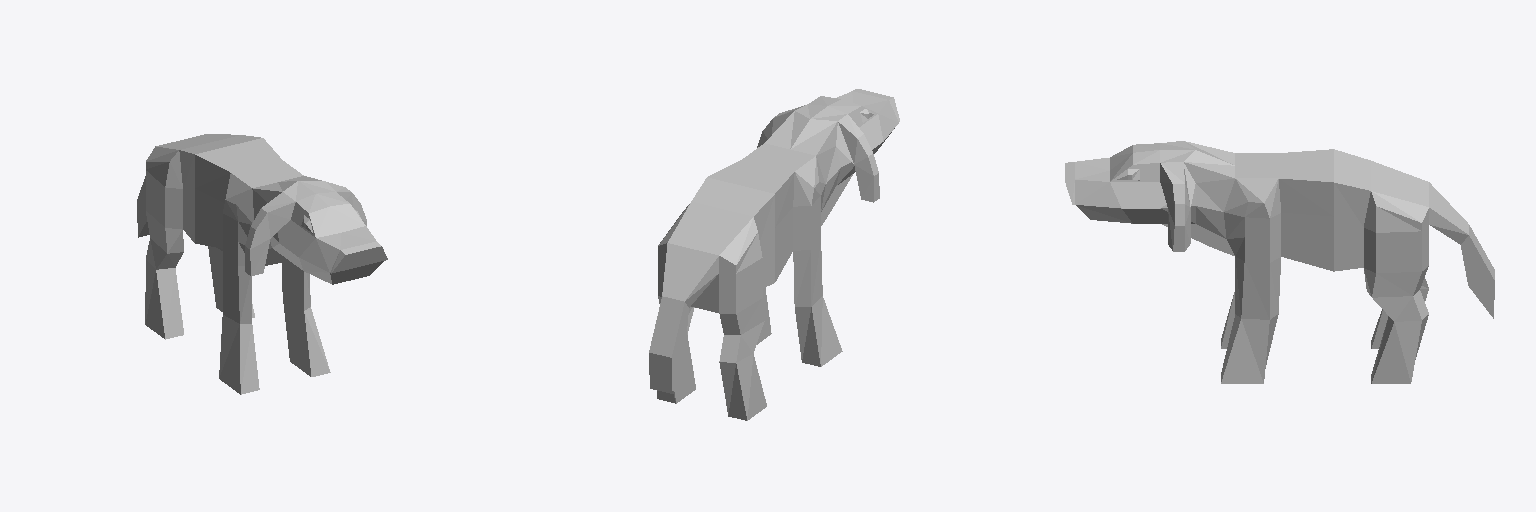
File: dog.obj
3 renders of one model, left to right at view 1: azimuth 30°, elevation 25°; view 2: azimuth 150°, elevation 25°; view 3: azimuth 270°, elevation 25°, orthographic.
Visible parts, largest first — view 1: Dog; view 2: Dog; view 3: Dog.
Boxes of the visible parts, x1=… form: Dog: x1=137, y1=134, x2=387, y2=394; Dog: x1=649, y1=89, x2=899, y2=420; Dog: x1=1065, y1=141, x2=1494, y2=383.
Size of the model in its own units: 1403 by 2431 by 4471.